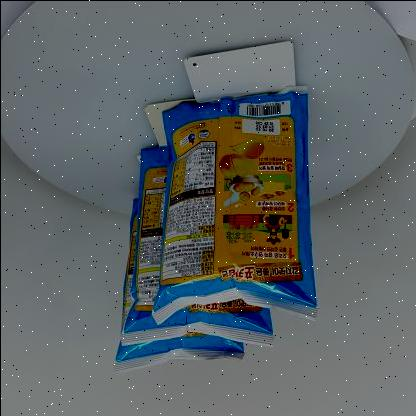Others: (89, 94, 335, 370)
